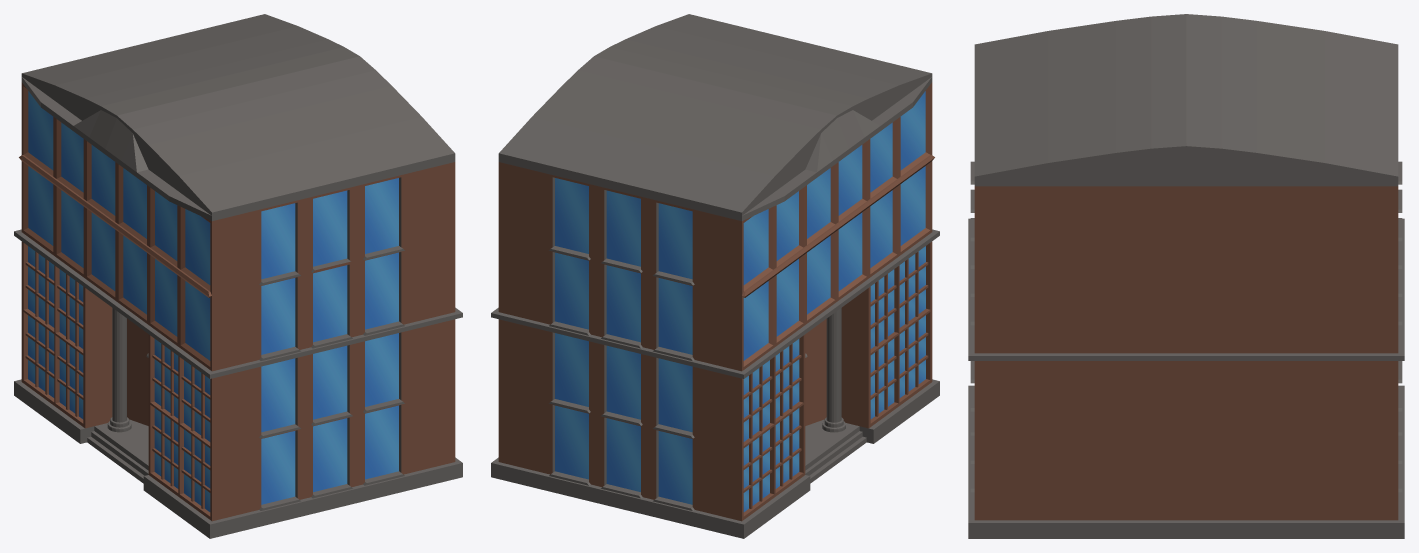
Rendered from Building03WTextures.fbx.
3 renders of one model, left to right at view 1: azimuth 30°, elevation 25°; view 2: azimuth 150°, elevation 25°; view 3: azimuth 270°, elevation 25°, orthographic. The views are drawn at different scales.
Parts seen in each view (by area): view 1: Cylinder001; view 2: Cylinder001; view 3: Cylinder001.
Boxes of the visible parts, x1,y1,x2,y2 form: Cylinder001: [14, 14, 462, 538]; Cylinder001: [491, 14, 939, 538]; Cylinder001: [968, 14, 1404, 538].
Size of the model in its own units: 589 by 760 by 770.
